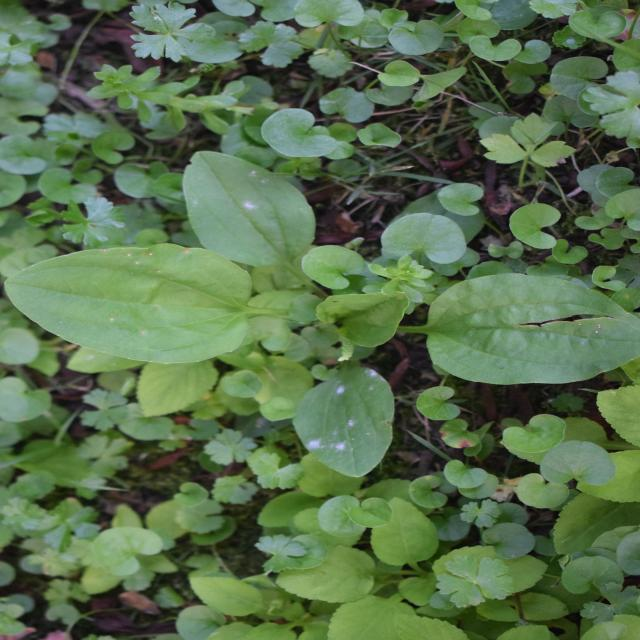plantain: (189, 18, 472, 617)
